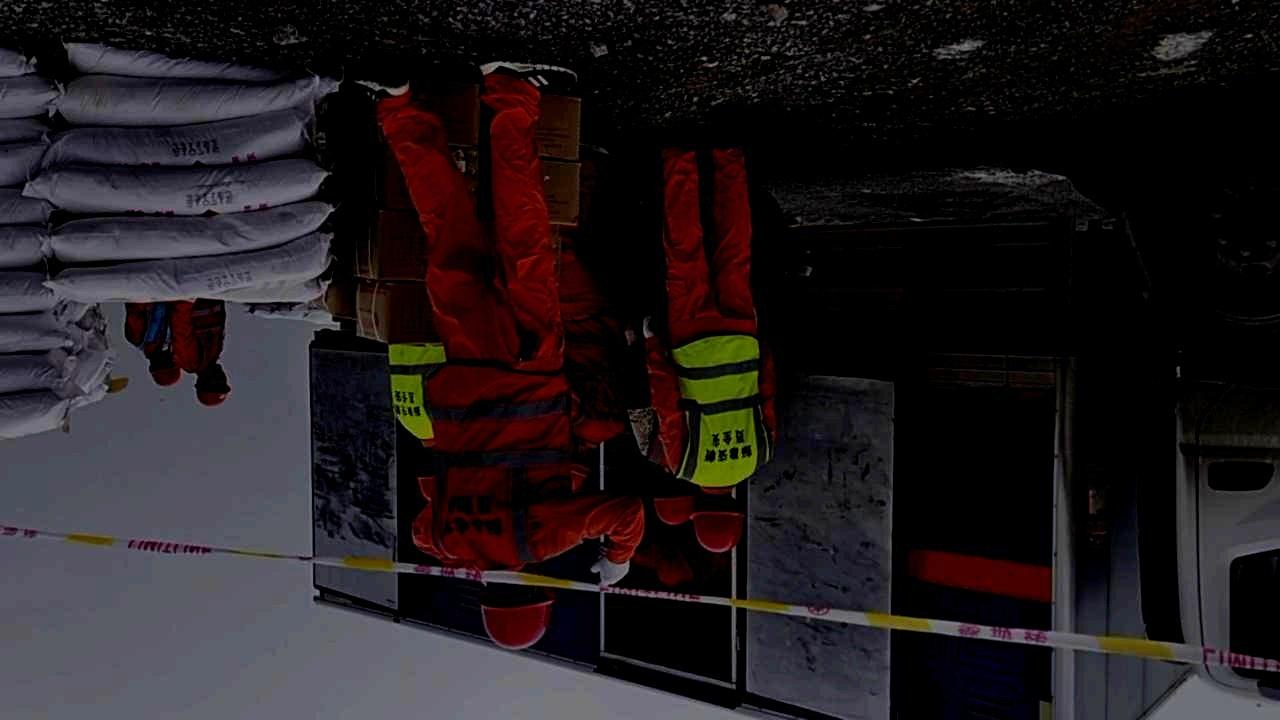helmet: (480, 580, 554, 650), (689, 493, 746, 552), (653, 478, 696, 524), (194, 363, 231, 408), (148, 351, 182, 388)
